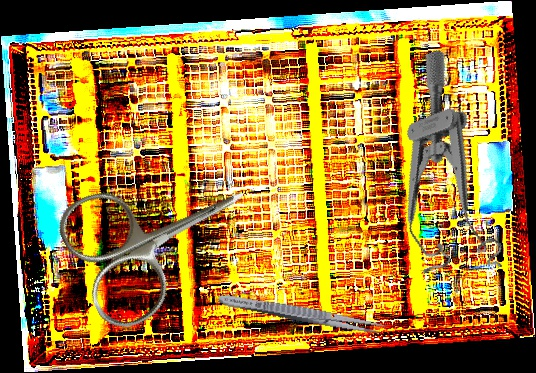Dressing Forceps: (217, 290, 388, 338)
Iris Scissors: (49, 132, 276, 339)
Speculum: (349, 48, 524, 294)
